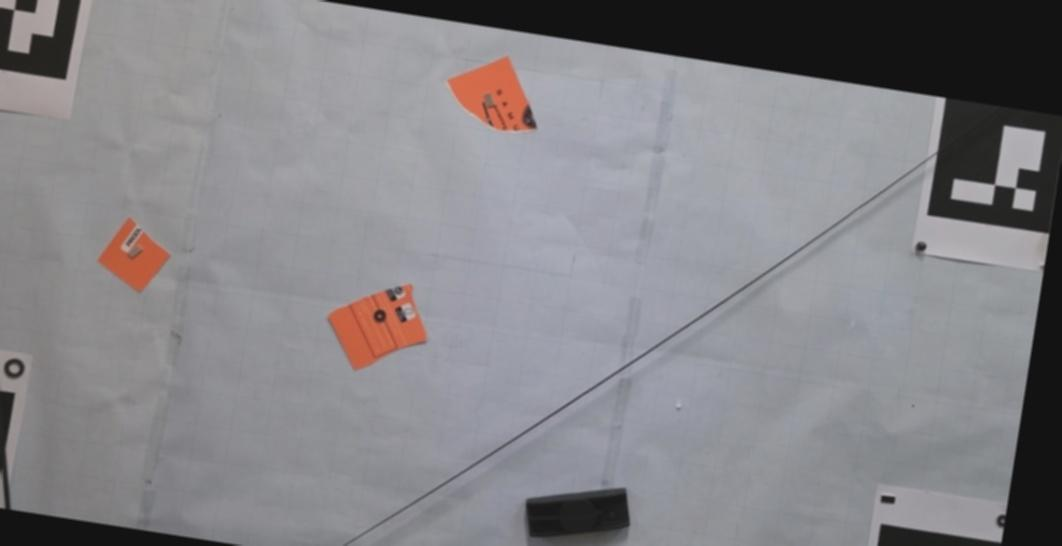obstacle: (326, 285, 428, 371), (444, 57, 537, 132), (96, 215, 171, 294), (524, 487, 631, 539)
